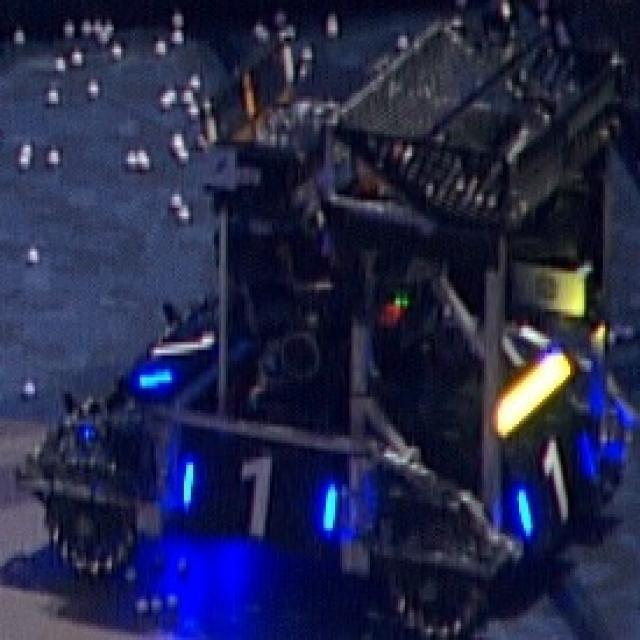B1: (179, 454, 342, 536), (514, 429, 605, 539)
